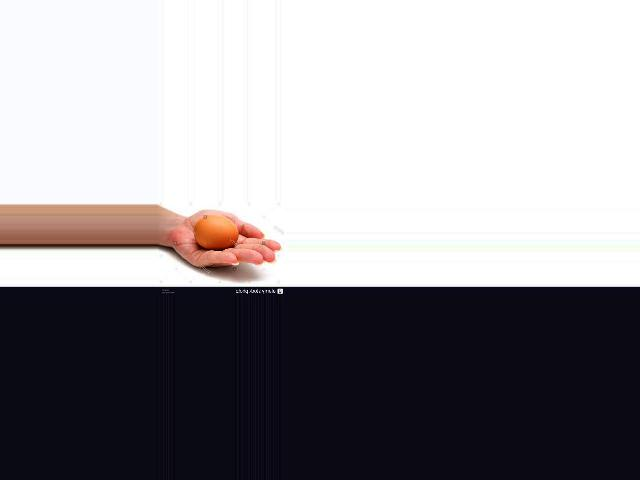egg: (192, 214, 237, 250)
